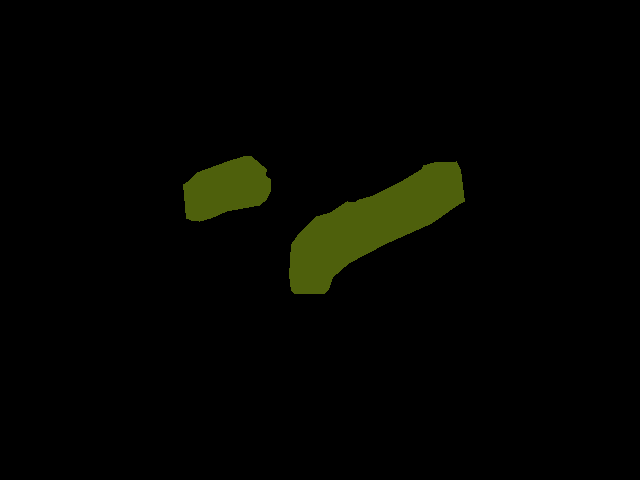Train: (289, 161, 464, 294), (183, 156, 271, 221)
